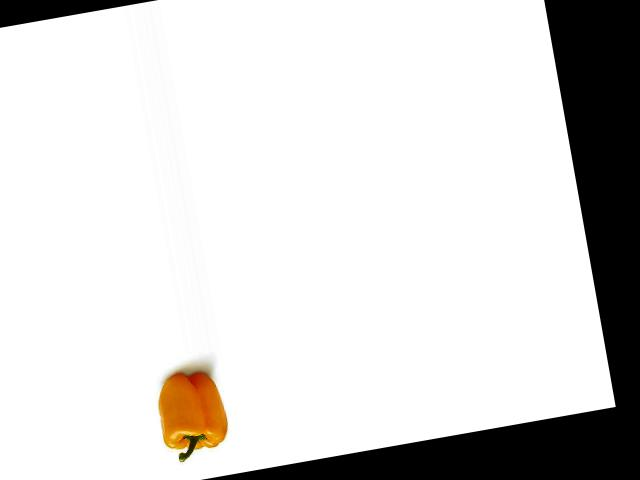bell_pepper: (144, 365, 234, 469)
